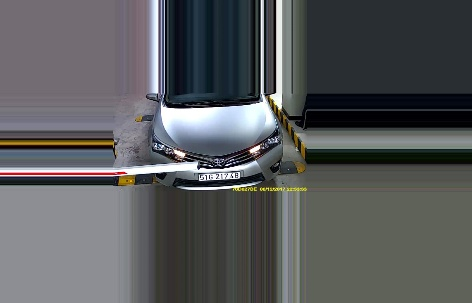plate: (195, 169, 242, 180)
